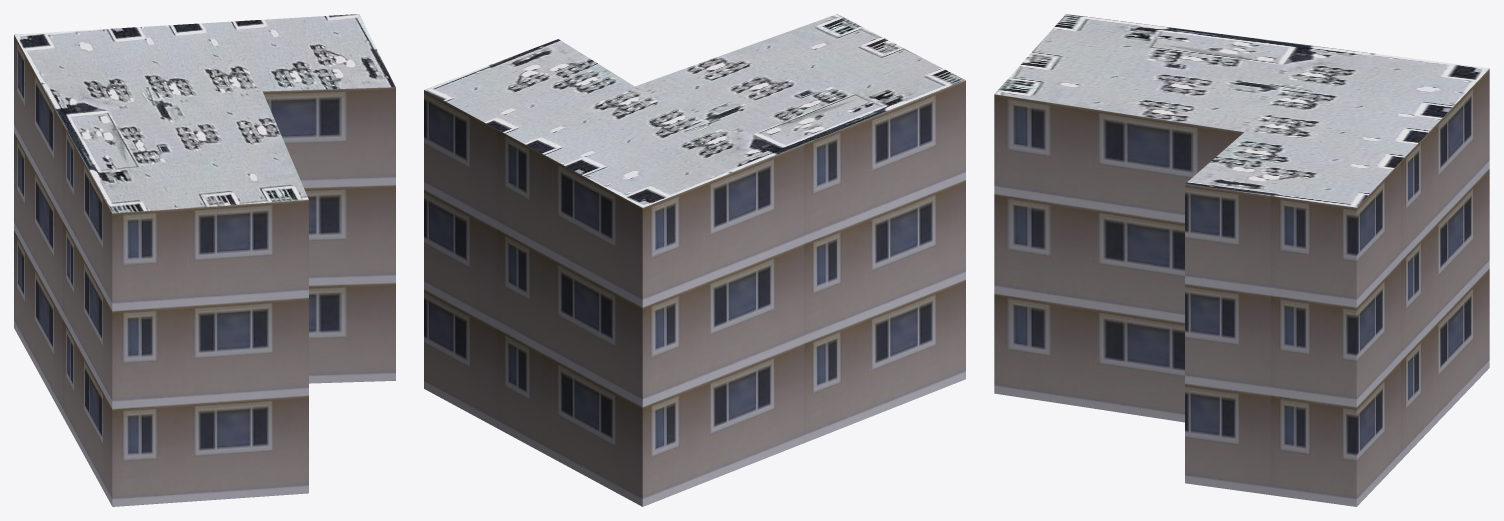
Rendered from ResTex__2554.fbx.
The picture shows the model from 3 angles, left to right: view 1: azimuth 30°, elevation 25°; view 2: azimuth 150°, elevation 25°; view 3: azimuth 270°, elevation 25°; orthographic projection.
Parts seen in each view (by area): view 1: CityEngineMaterial_21_m, CityEngineMaterial_2_m; view 2: CityEngineMaterial_21_m, CityEngineMaterial_2_m; view 3: CityEngineMaterial_21_m, CityEngineMaterial_2_m.
Part boxes in pixels (<box>): CityEngineMaterial_21_m: <box>14,35,395,506</box>; CityEngineMaterial_2_m: <box>14,14,395,213</box>; CityEngineMaterial_21_m: <box>424,80,965,506</box>; CityEngineMaterial_2_m: <box>424,14,965,207</box>; CityEngineMaterial_21_m: <box>994,69,1489,506</box>; CityEngineMaterial_2_m: <box>994,14,1489,207</box>.
Bounding box in the file's own units: 12.49 × 9 × 13.51.
2 materials, 2 textured.
